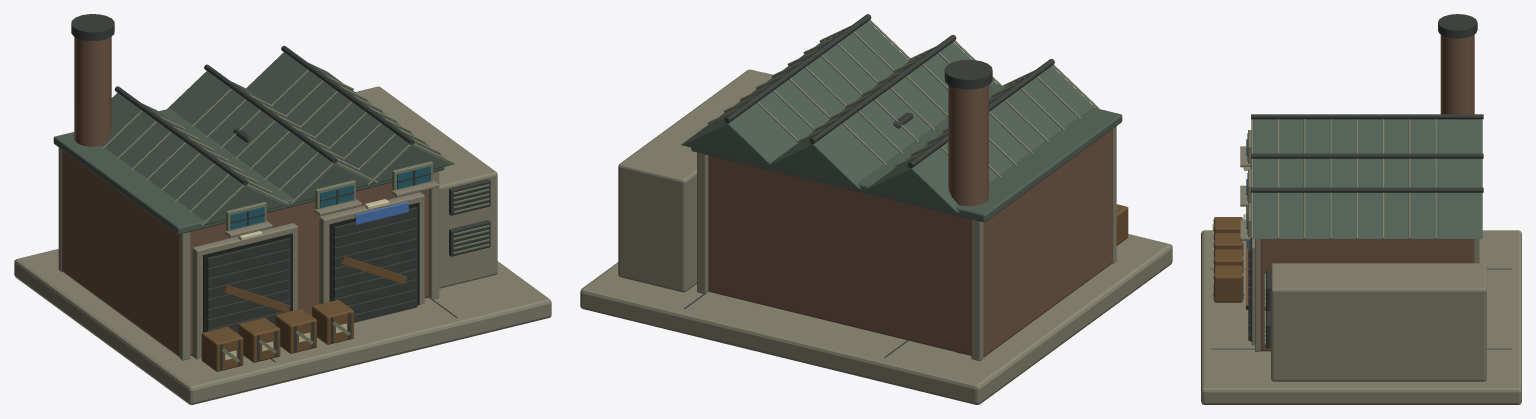
The model's file is abandonedfactory.glb.
3 views of the same model, side by side, from view 1: azimuth 30°, elevation 25°; view 2: azimuth 150°, elevation 25°; view 3: azimuth 270°, elevation 25° (orthographic). The views are drawn at different scales.
Parts seen in each view (by area): view 1: Concrete, RoofMetal, Masonry, Steel, EdgeSteel, Timber, Tracks, Optics, TeamColor, Markings; view 2: Masonry, Concrete, RoofMetal, Steel, EdgeSteel; view 3: Concrete, RoofMetal, Masonry, Steel, EdgeSteel, Timber.
Boxes of the visible parts, x1,y1,x2,y2 form: Concrete: (14,86,551,404); RoofMetal: (53,52,453,234); Masonry: (62,37,428,356); Steel: (71,14,490,370); EdgeSteel: (102,70,489,362); Timber: (201,255,407,371); Tracks: (203,202,419,332); Optics: (230,166,430,229); TeamColor: (355,202,408,224); Markings: (225,199,388,360); Masonry: (708,85,1112,357); Concrete: (580,69,1172,404); RoofMetal: (681,21,1122,222); Steel: (684,14,1054,357); EdgeSteel: (707,19,1099,176); Concrete: (1201,146,1521,404); RoofMetal: (1253,119,1482,238); Masonry: (1260,34,1474,351); Steel: (1211,14,1511,349); EdgeSteel: (1212,119,1436,344); Timber: (1214,206,1248,309).
Size of the model in its own units: 6.5 by 4.61 by 5.5.
